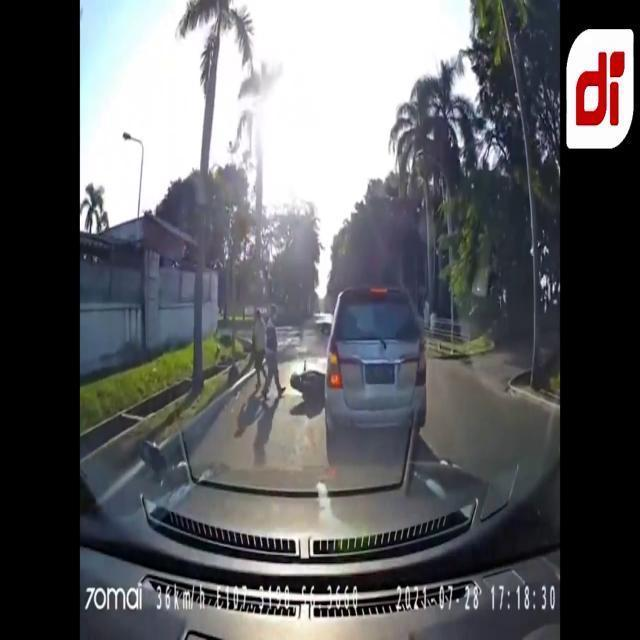accident: (289, 289, 427, 435)
